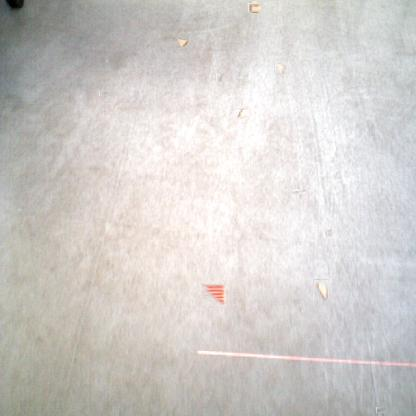dirty: (201, 283, 225, 307), (313, 279, 329, 301), (235, 107, 249, 119), (275, 61, 287, 74), (177, 38, 188, 50), (249, 2, 260, 13)
mark: (293, 185, 305, 197), (378, 406, 386, 415), (216, 72, 223, 82), (325, 229, 333, 237), (100, 90, 108, 97)
